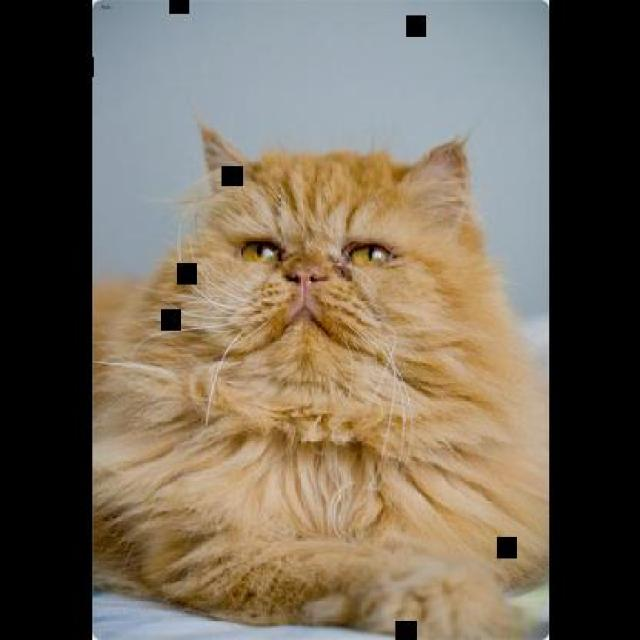unauthorized: (90, 120, 548, 638)
